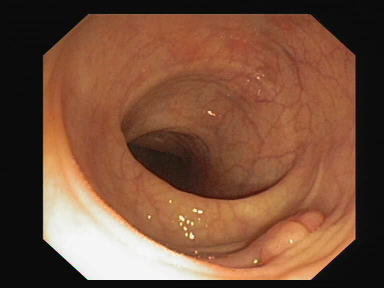polyp: (232, 202, 335, 266)
